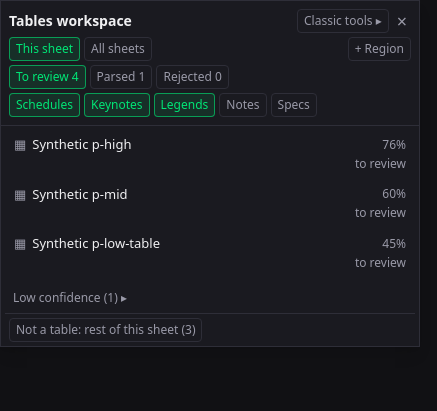
Test: inbox › low-confidence items sit in a collapsed fold
Expected: the list named "Inbox" is shown, [5,130,415,276]
Click the button "Low confidence (1) ▸".
click(60, 297)  # box [5,286,415,308]
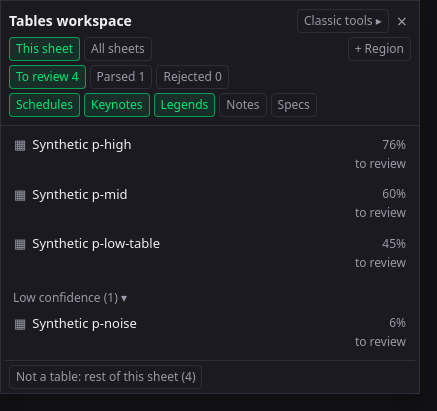
Expected: the text "Synthetic p-noise" is shown, [32,314,137,332]
